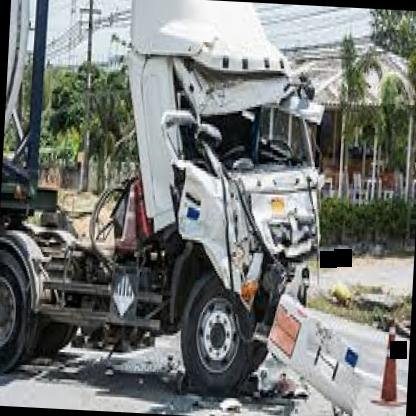accident: (34, 0, 414, 416)
